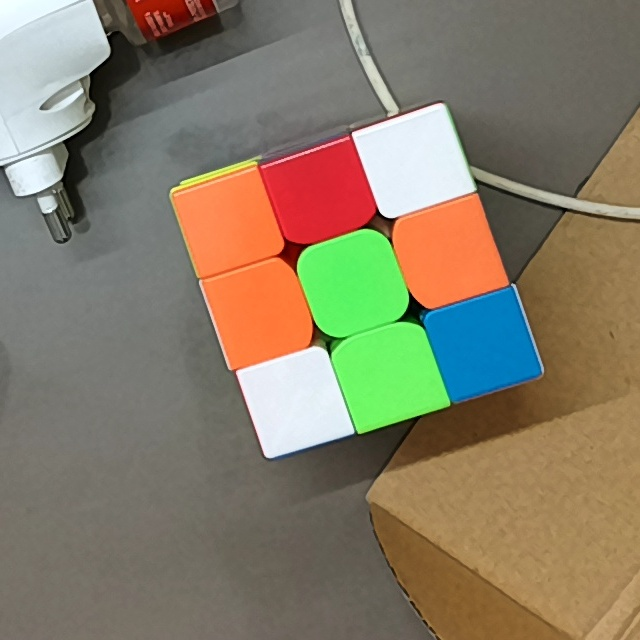tile: (315, 251, 395, 321), (221, 279, 296, 352), (413, 220, 489, 291), (358, 339, 427, 411), (445, 315, 518, 383), (261, 368, 334, 434), (380, 129, 448, 195), (282, 165, 355, 226), (191, 194, 263, 255)
